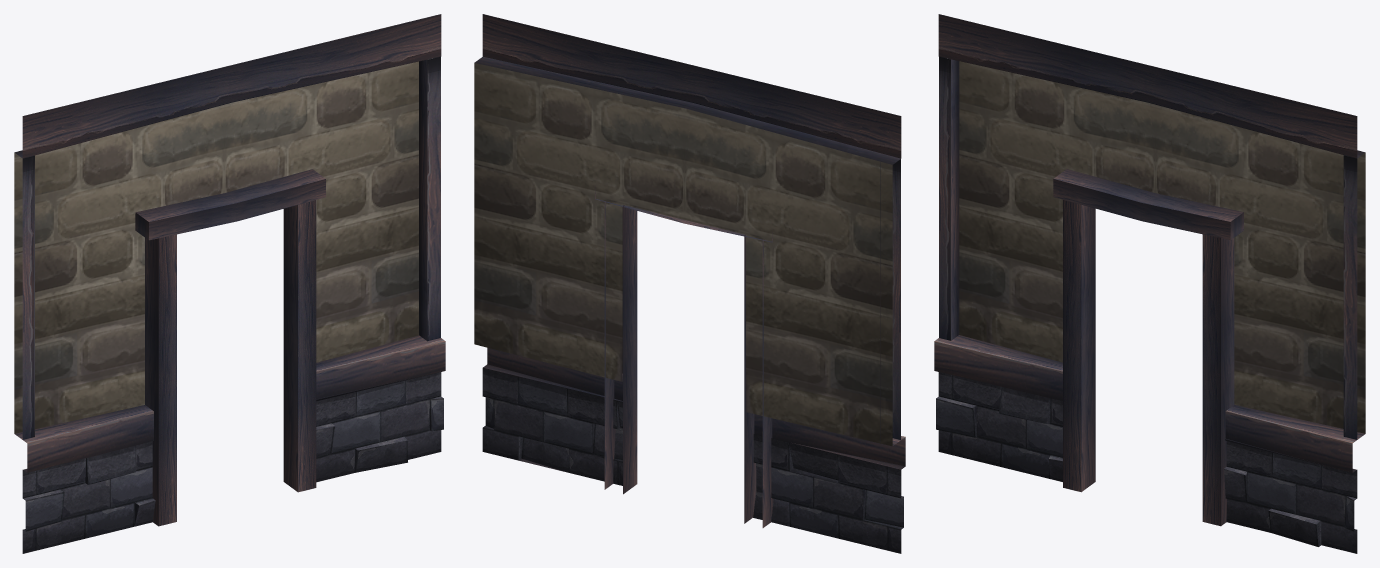
The model's file is WallDoor_1sided_detailed_Bricks.fbx.
The picture shows the model from 3 angles, left to right: view 1: azimuth 30°, elevation 25°; view 2: azimuth 150°, elevation 25°; view 3: azimuth 330°, elevation 25°; orthographic projection.
Visible parts, largest first — view 1: WallDoor_1sided_detailed_Bricks; view 2: WallDoor_1sided_detailed_Bricks; view 3: WallDoor_1sided_detailed_Bricks.
Part boxes in pixels (x1,y1,x2,y2): WallDoor_1sided_detailed_Bricks: (14, 14, 445, 553); WallDoor_1sided_detailed_Bricks: (474, 14, 905, 553); WallDoor_1sided_detailed_Bricks: (934, 14, 1365, 553).
Bounding box in the file's own units: 0.6266 × 0.6266 × 0.0371.
